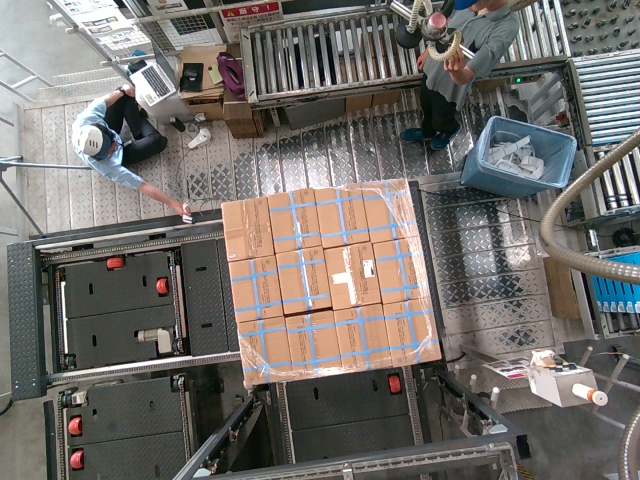box: (336, 305, 385, 367), (220, 199, 266, 261), (319, 183, 365, 245), (272, 189, 318, 251), (366, 180, 412, 242), (379, 238, 425, 300), (388, 301, 434, 363), (329, 244, 375, 306), (281, 246, 327, 308), (232, 257, 278, 319), (241, 319, 287, 381), (287, 314, 333, 376)
